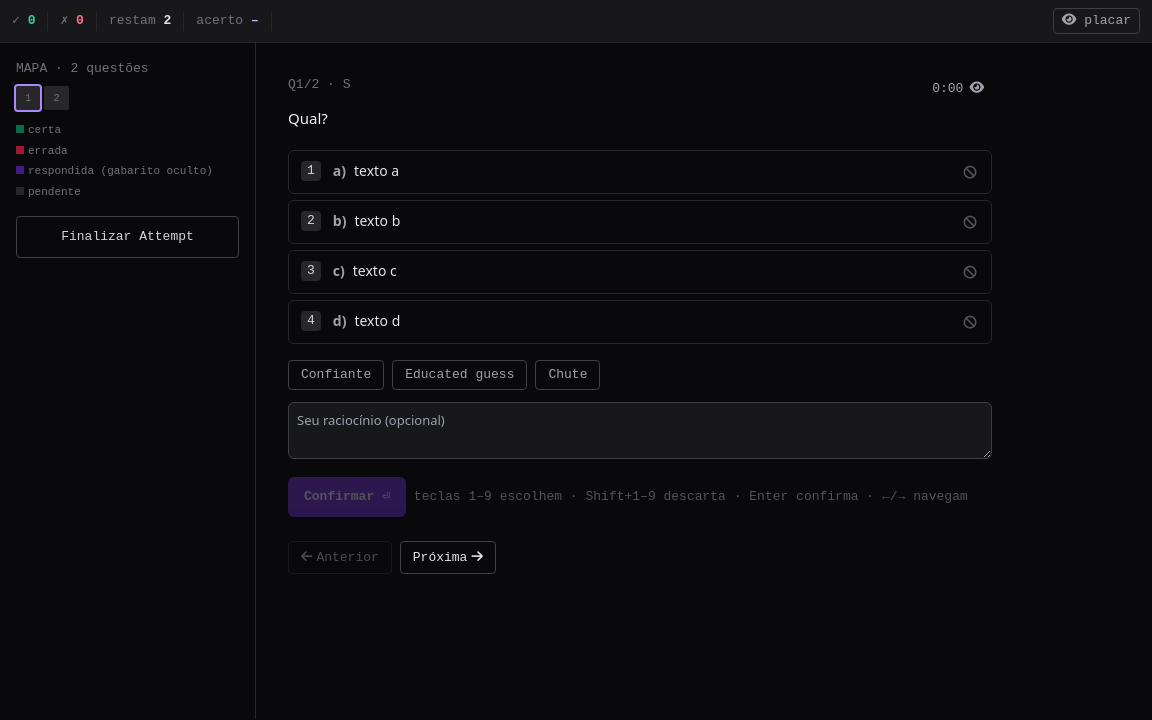
Test: descartar alternativas (atalhos) › dentro do campo de raciocínio os atalhos ficam desligados: Shift+2 vira texto e não descarta
Expected: the text "texto a" is shown, [354,161,399,180]
Click the text box with placeholder "Seu raciocínio (opcional)".
click(640, 430)  # box [288,402,992,459]
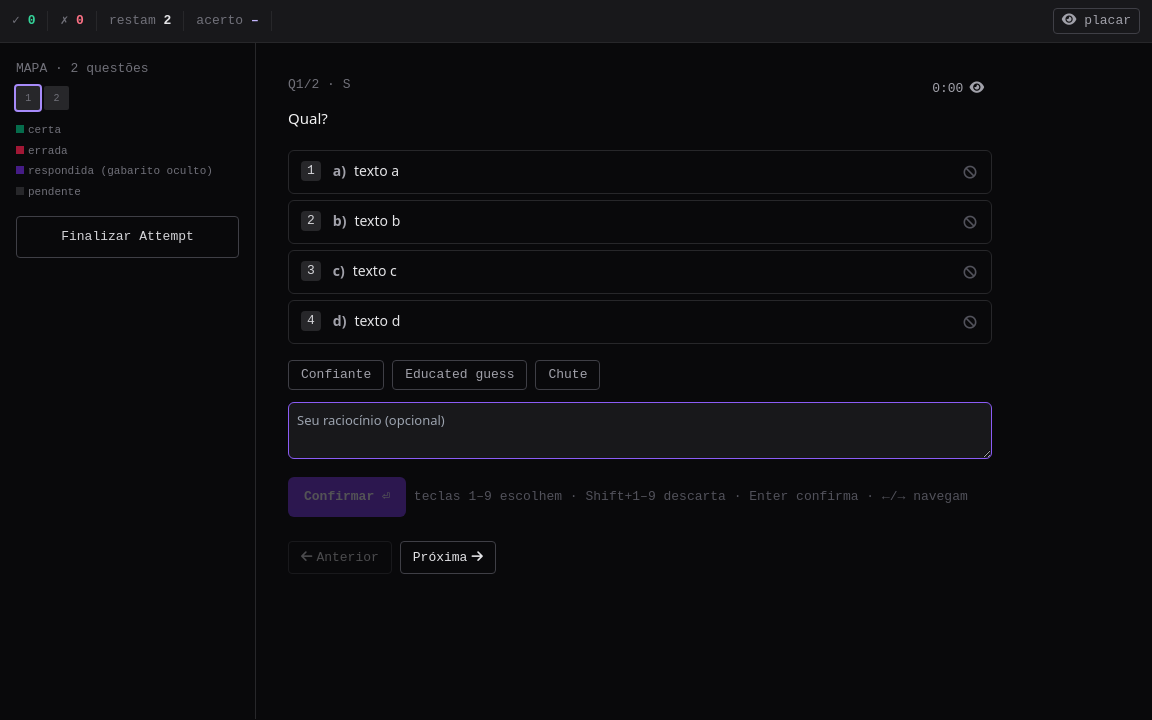
Type keys "{Shift>}2{/Shift}"
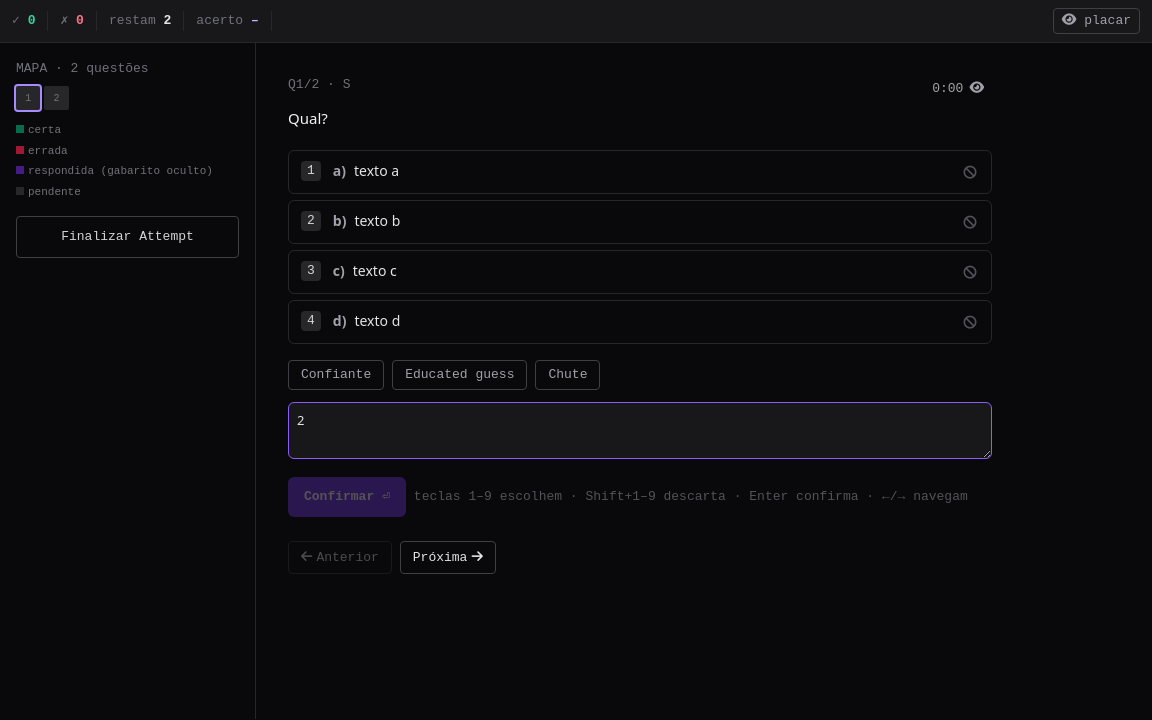
Now the text box with placeholder "Seu raciocínio (opcional)" is not empty, box [288,402,992,459]
